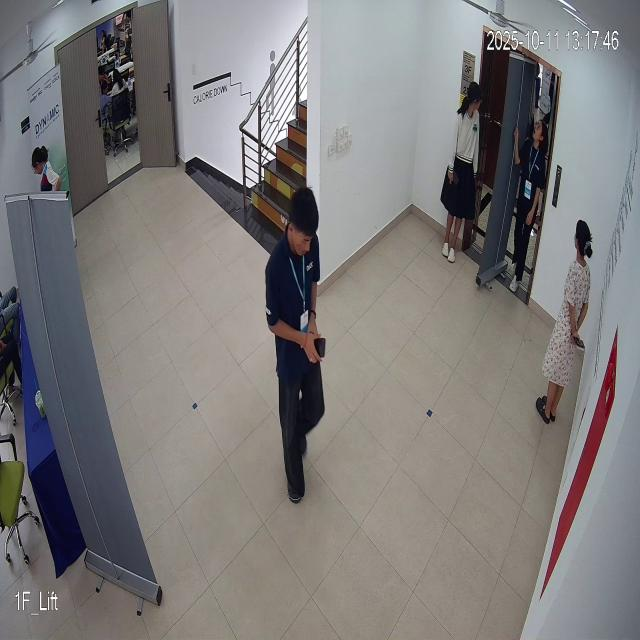face: (287, 186, 328, 272)
